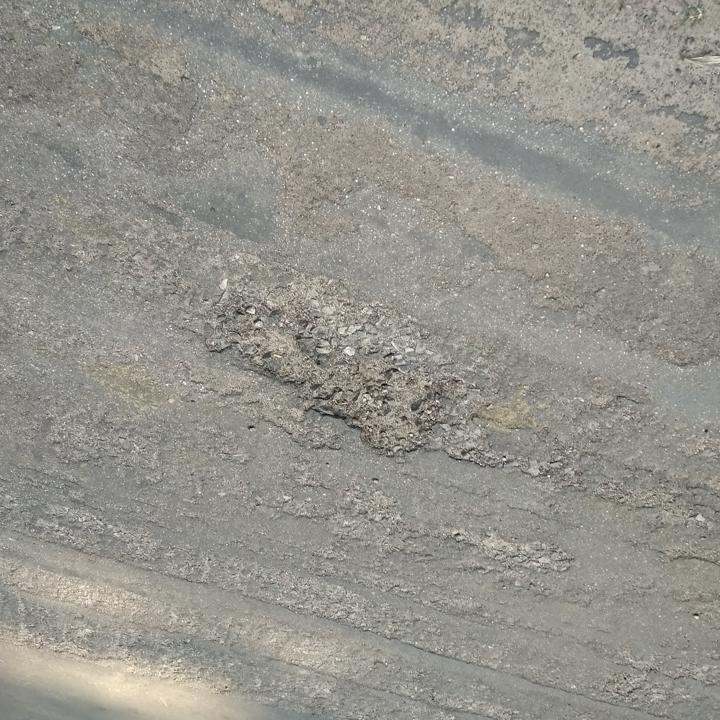pothole: (202, 294, 451, 465), (447, 526, 573, 575)
